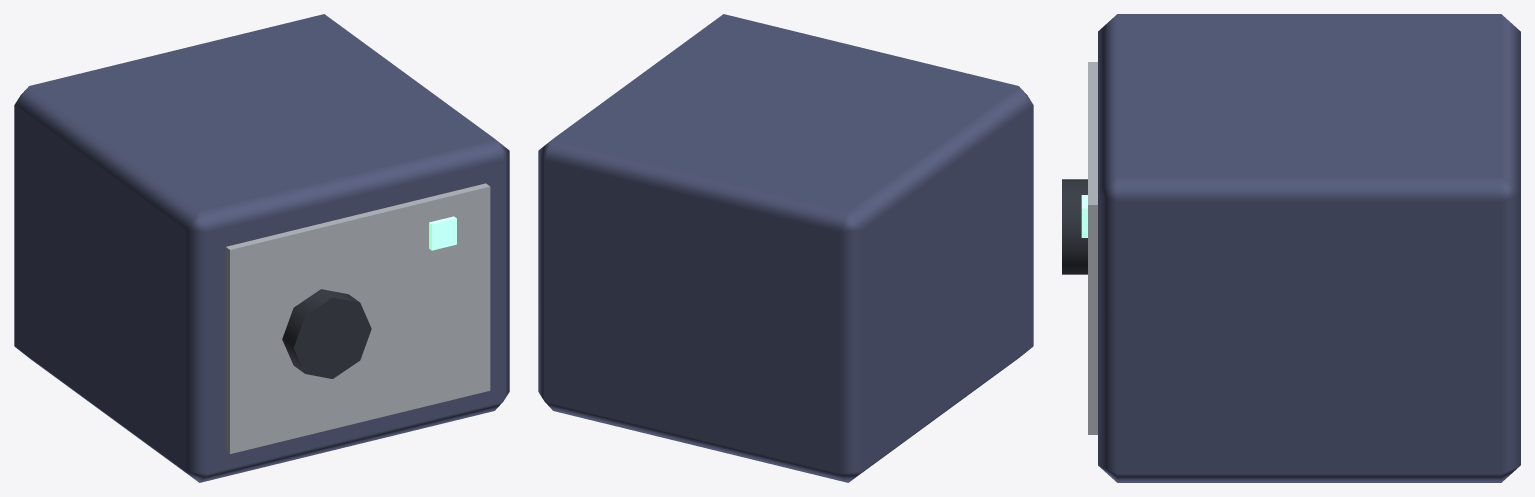
Rendered from station_processing_ausstattung_2_2.glb.
3 renders of one model, left to right at view 1: azimuth 30°, elevation 25°; view 2: azimuth 150°, elevation 25°; view 3: azimuth 270°, elevation 25°, orthographic. The views are drawn at different scales.
Visible parts, largest first — view 1: station_processing_ausstattung_2_2; view 2: station_processing_ausstattung_2_2; view 3: station_processing_ausstattung_2_2.
Boxes of the visible parts, bbox=[...] form: station_processing_ausstattung_2_2: bbox=[14, 14, 509, 482]; station_processing_ausstattung_2_2: bbox=[538, 14, 1033, 482]; station_processing_ausstattung_2_2: bbox=[1062, 14, 1520, 482].
Size of the model in its own units: 0.26 by 0.208 by 0.282.
